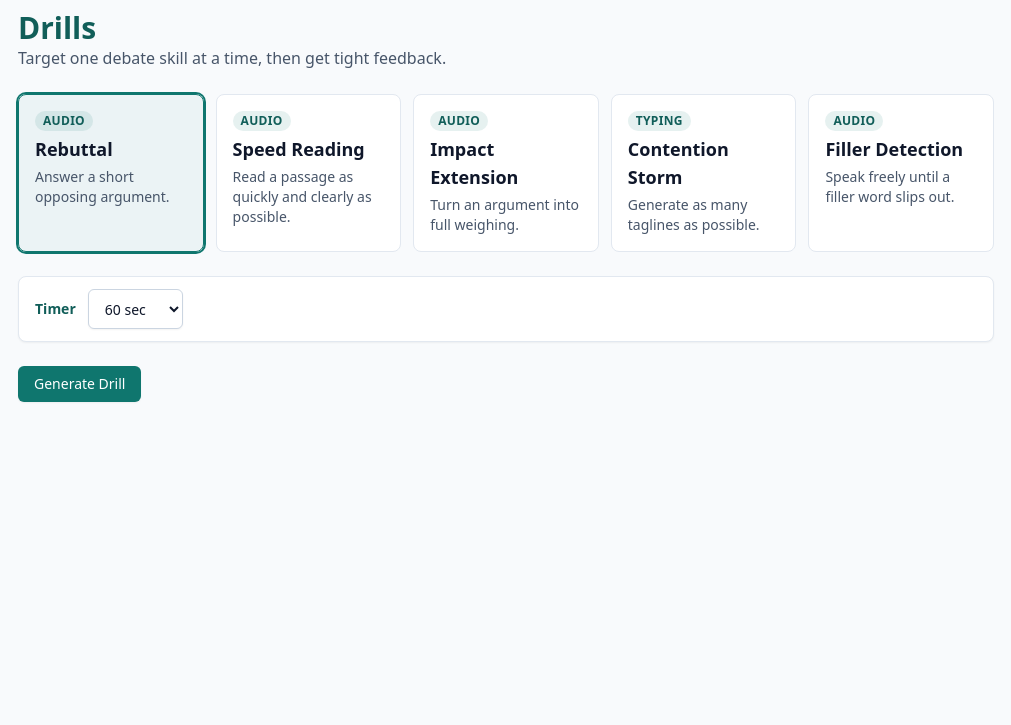
DrillsClient › shows feedback loading while a typed drill is being scored
Click the button "Contention Storm" at (704, 173), box [611,94,796,252]
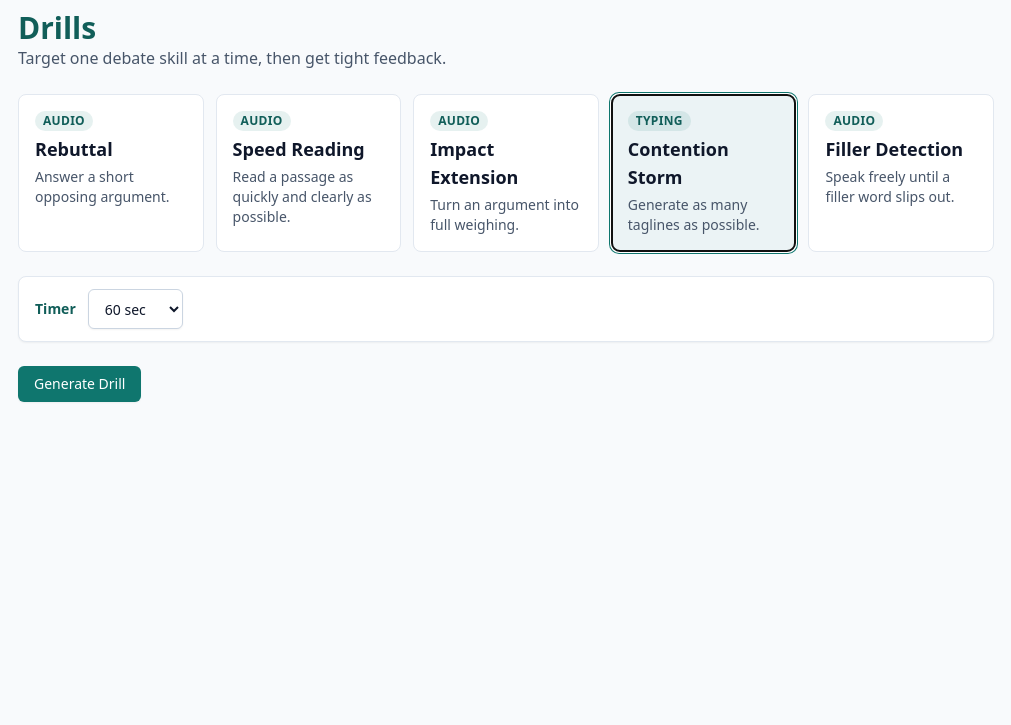
Click the button "Generate Drill" at (80, 384), box [18,366,141,402]
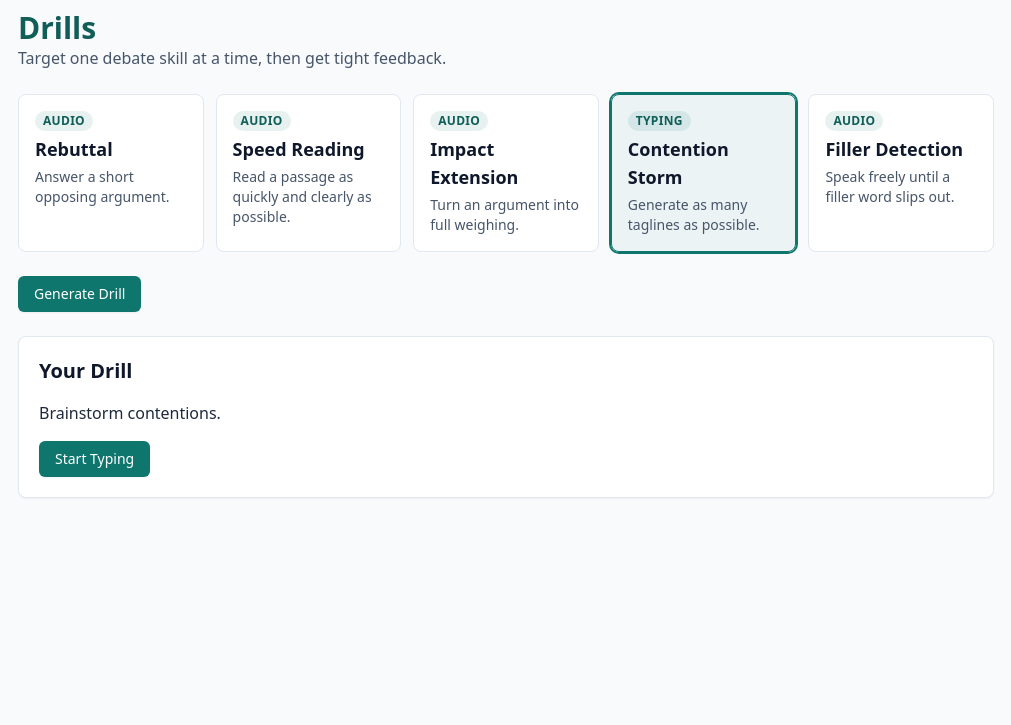
Check: the text "Brainstorm contentions." is shown, box [39,402,221,424]
Click the button "Start Typing" at (95, 459), box [39,441,150,477]
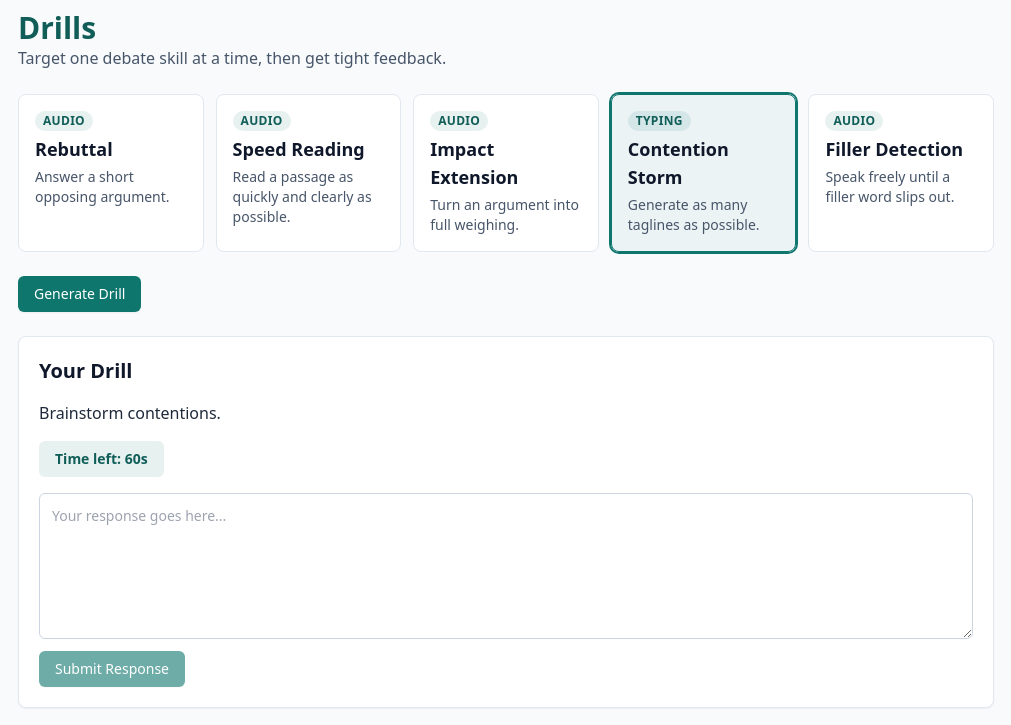
Type "One tagline" into the text box with placeholder "Your response goes here..." at (506, 566), box [39,493,973,639]
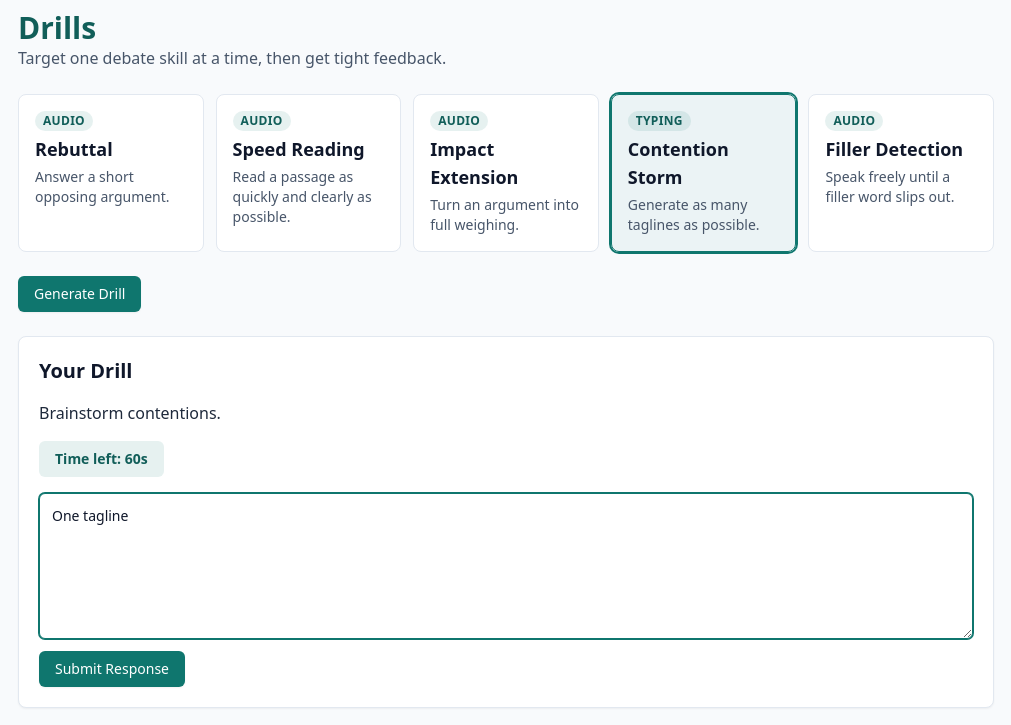
Click the button "Submit Response" at (112, 669), box [39,651,185,687]
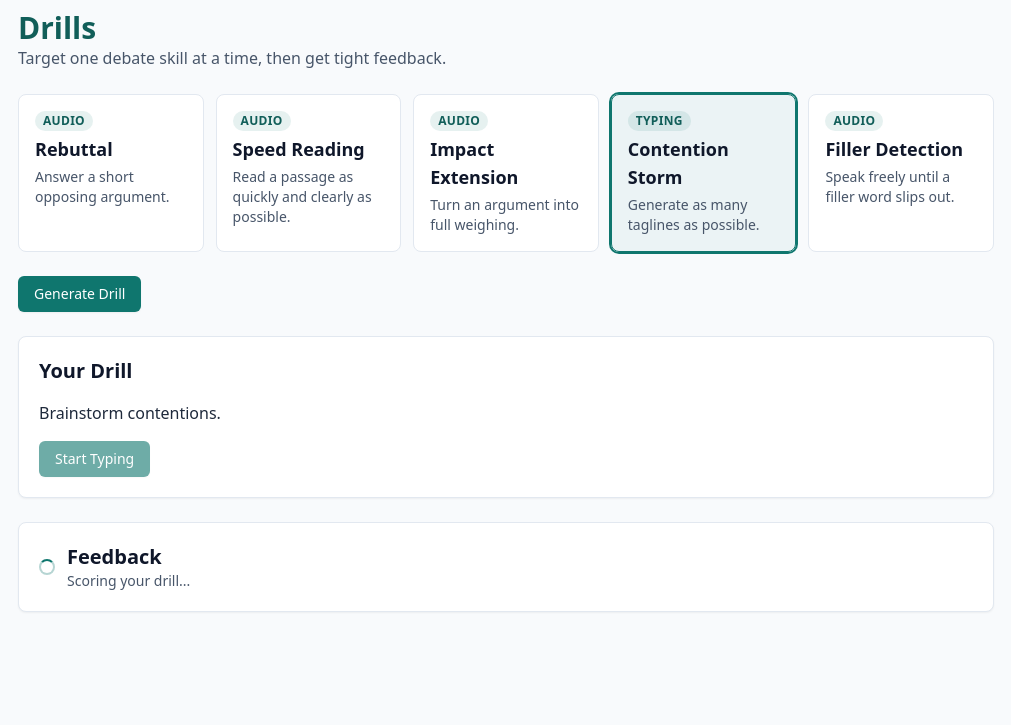
Check: the message shows "Scoring your drill...", box [67,571,190,590]
